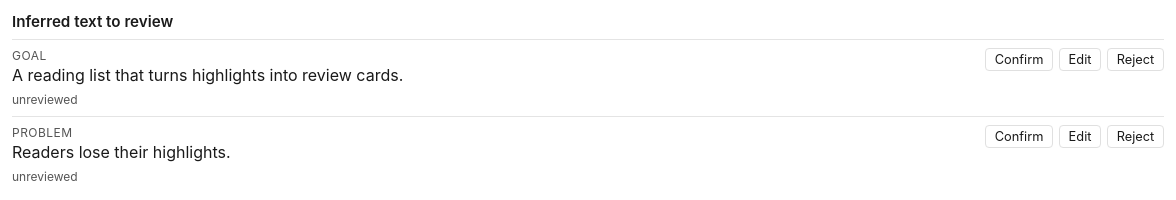
ReviewPanelComponent › should record a hand edit of the block behind a row
The image size is (1176, 200).
Click the button "Edit" in the row of "Problem" at (1080, 136), box [1059,125,1101,148]
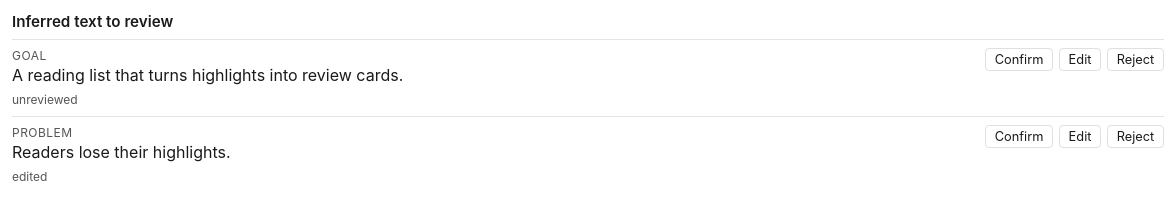
Expected: the text "edited" is shown, [12,169,47,184]
